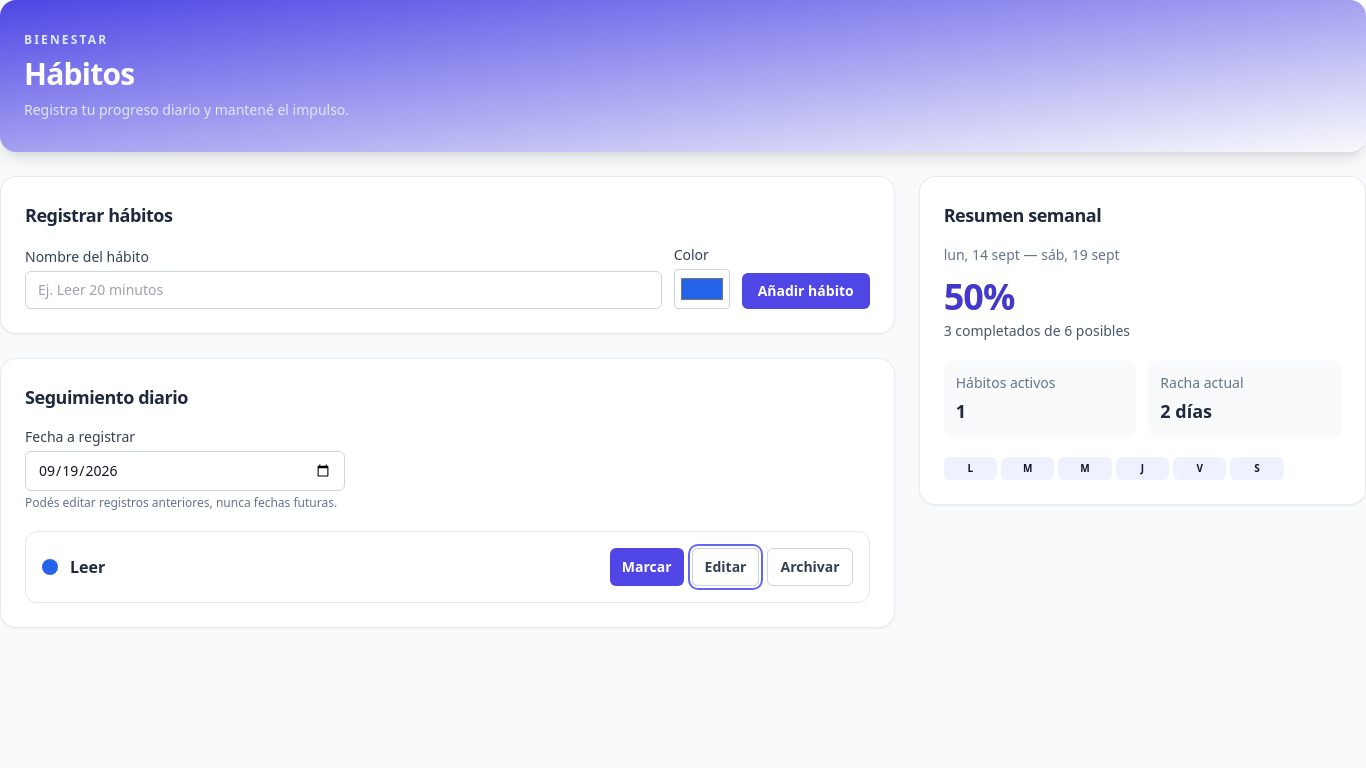
Test case: HabitsPage › focuses the edit dialog and restores focus after Escape
The image size is (1366, 768).
Expected: the text "Leer" is shown, [70,555,105,579]
Click the button "Editar": (726, 567) [692,548,760,586]
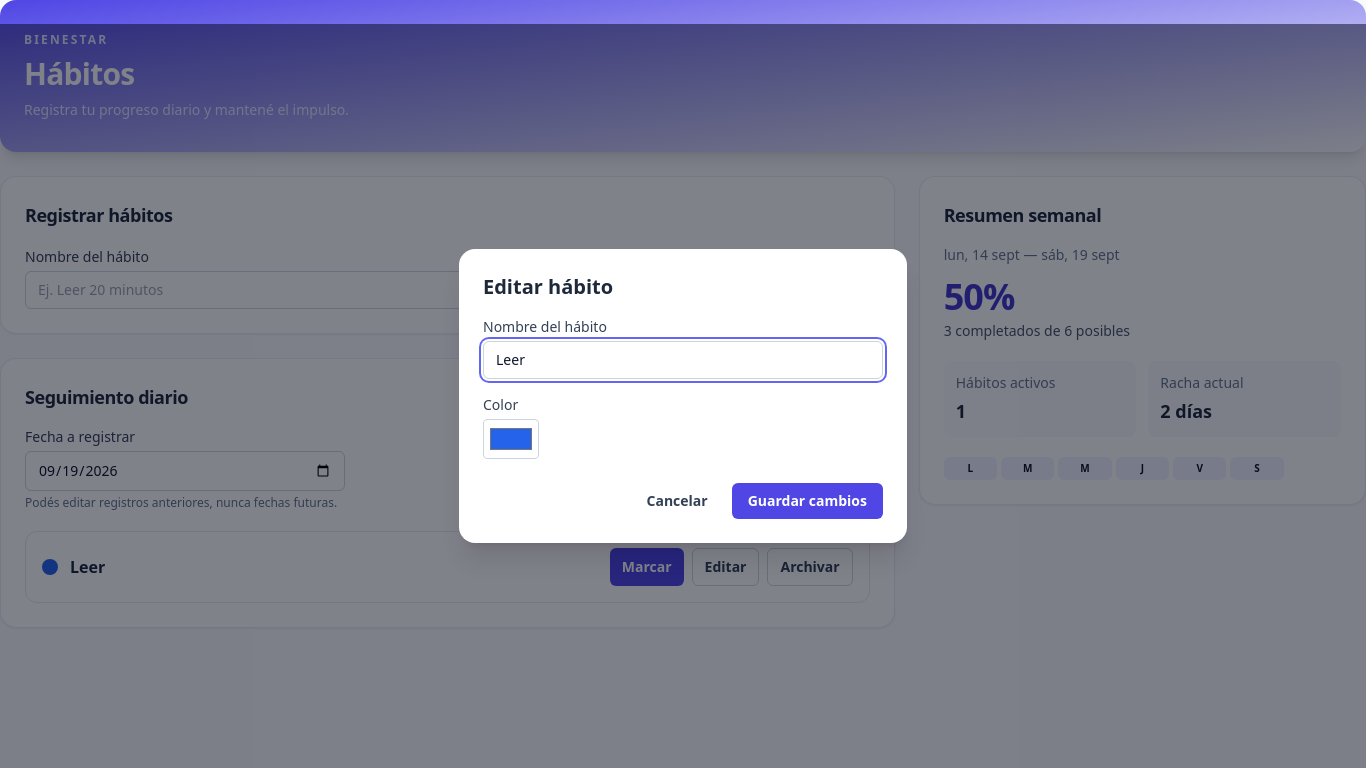
Press Escape
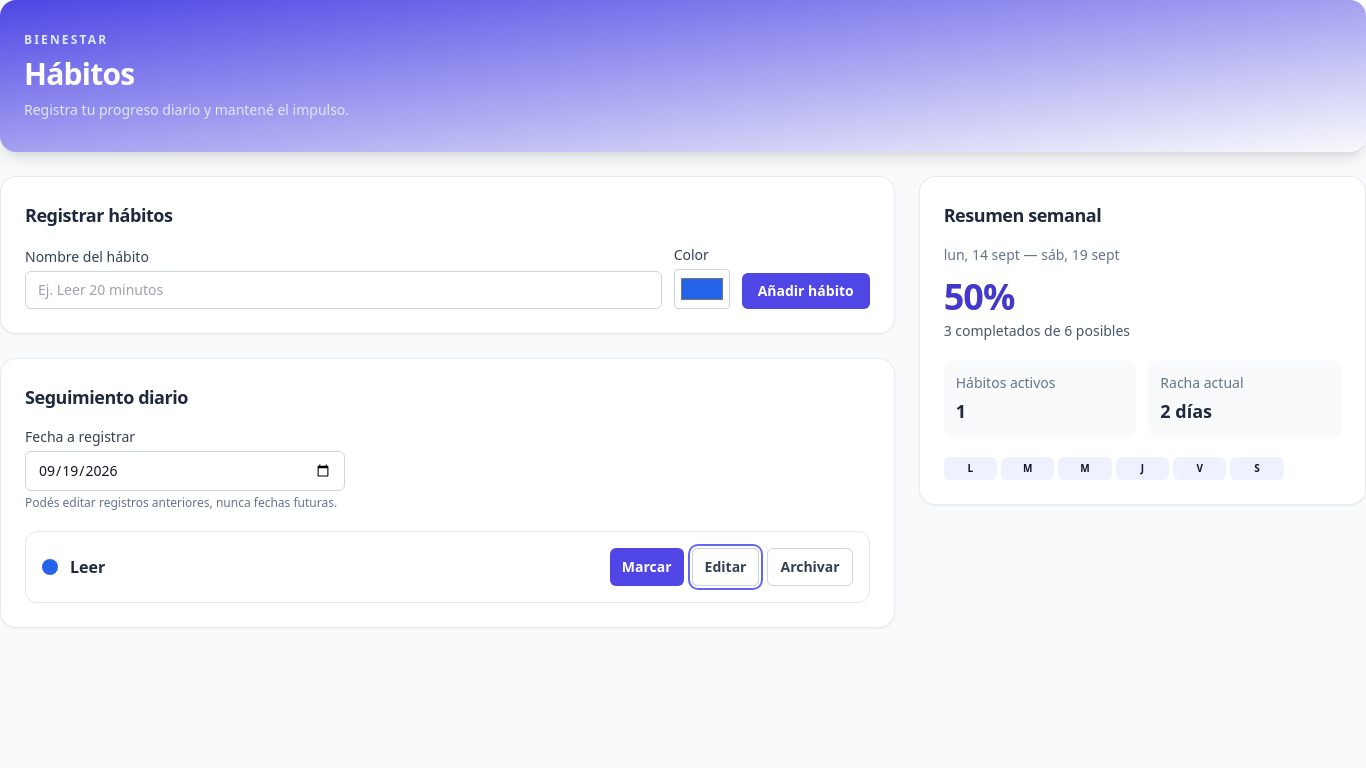
Now the dialog is gone
